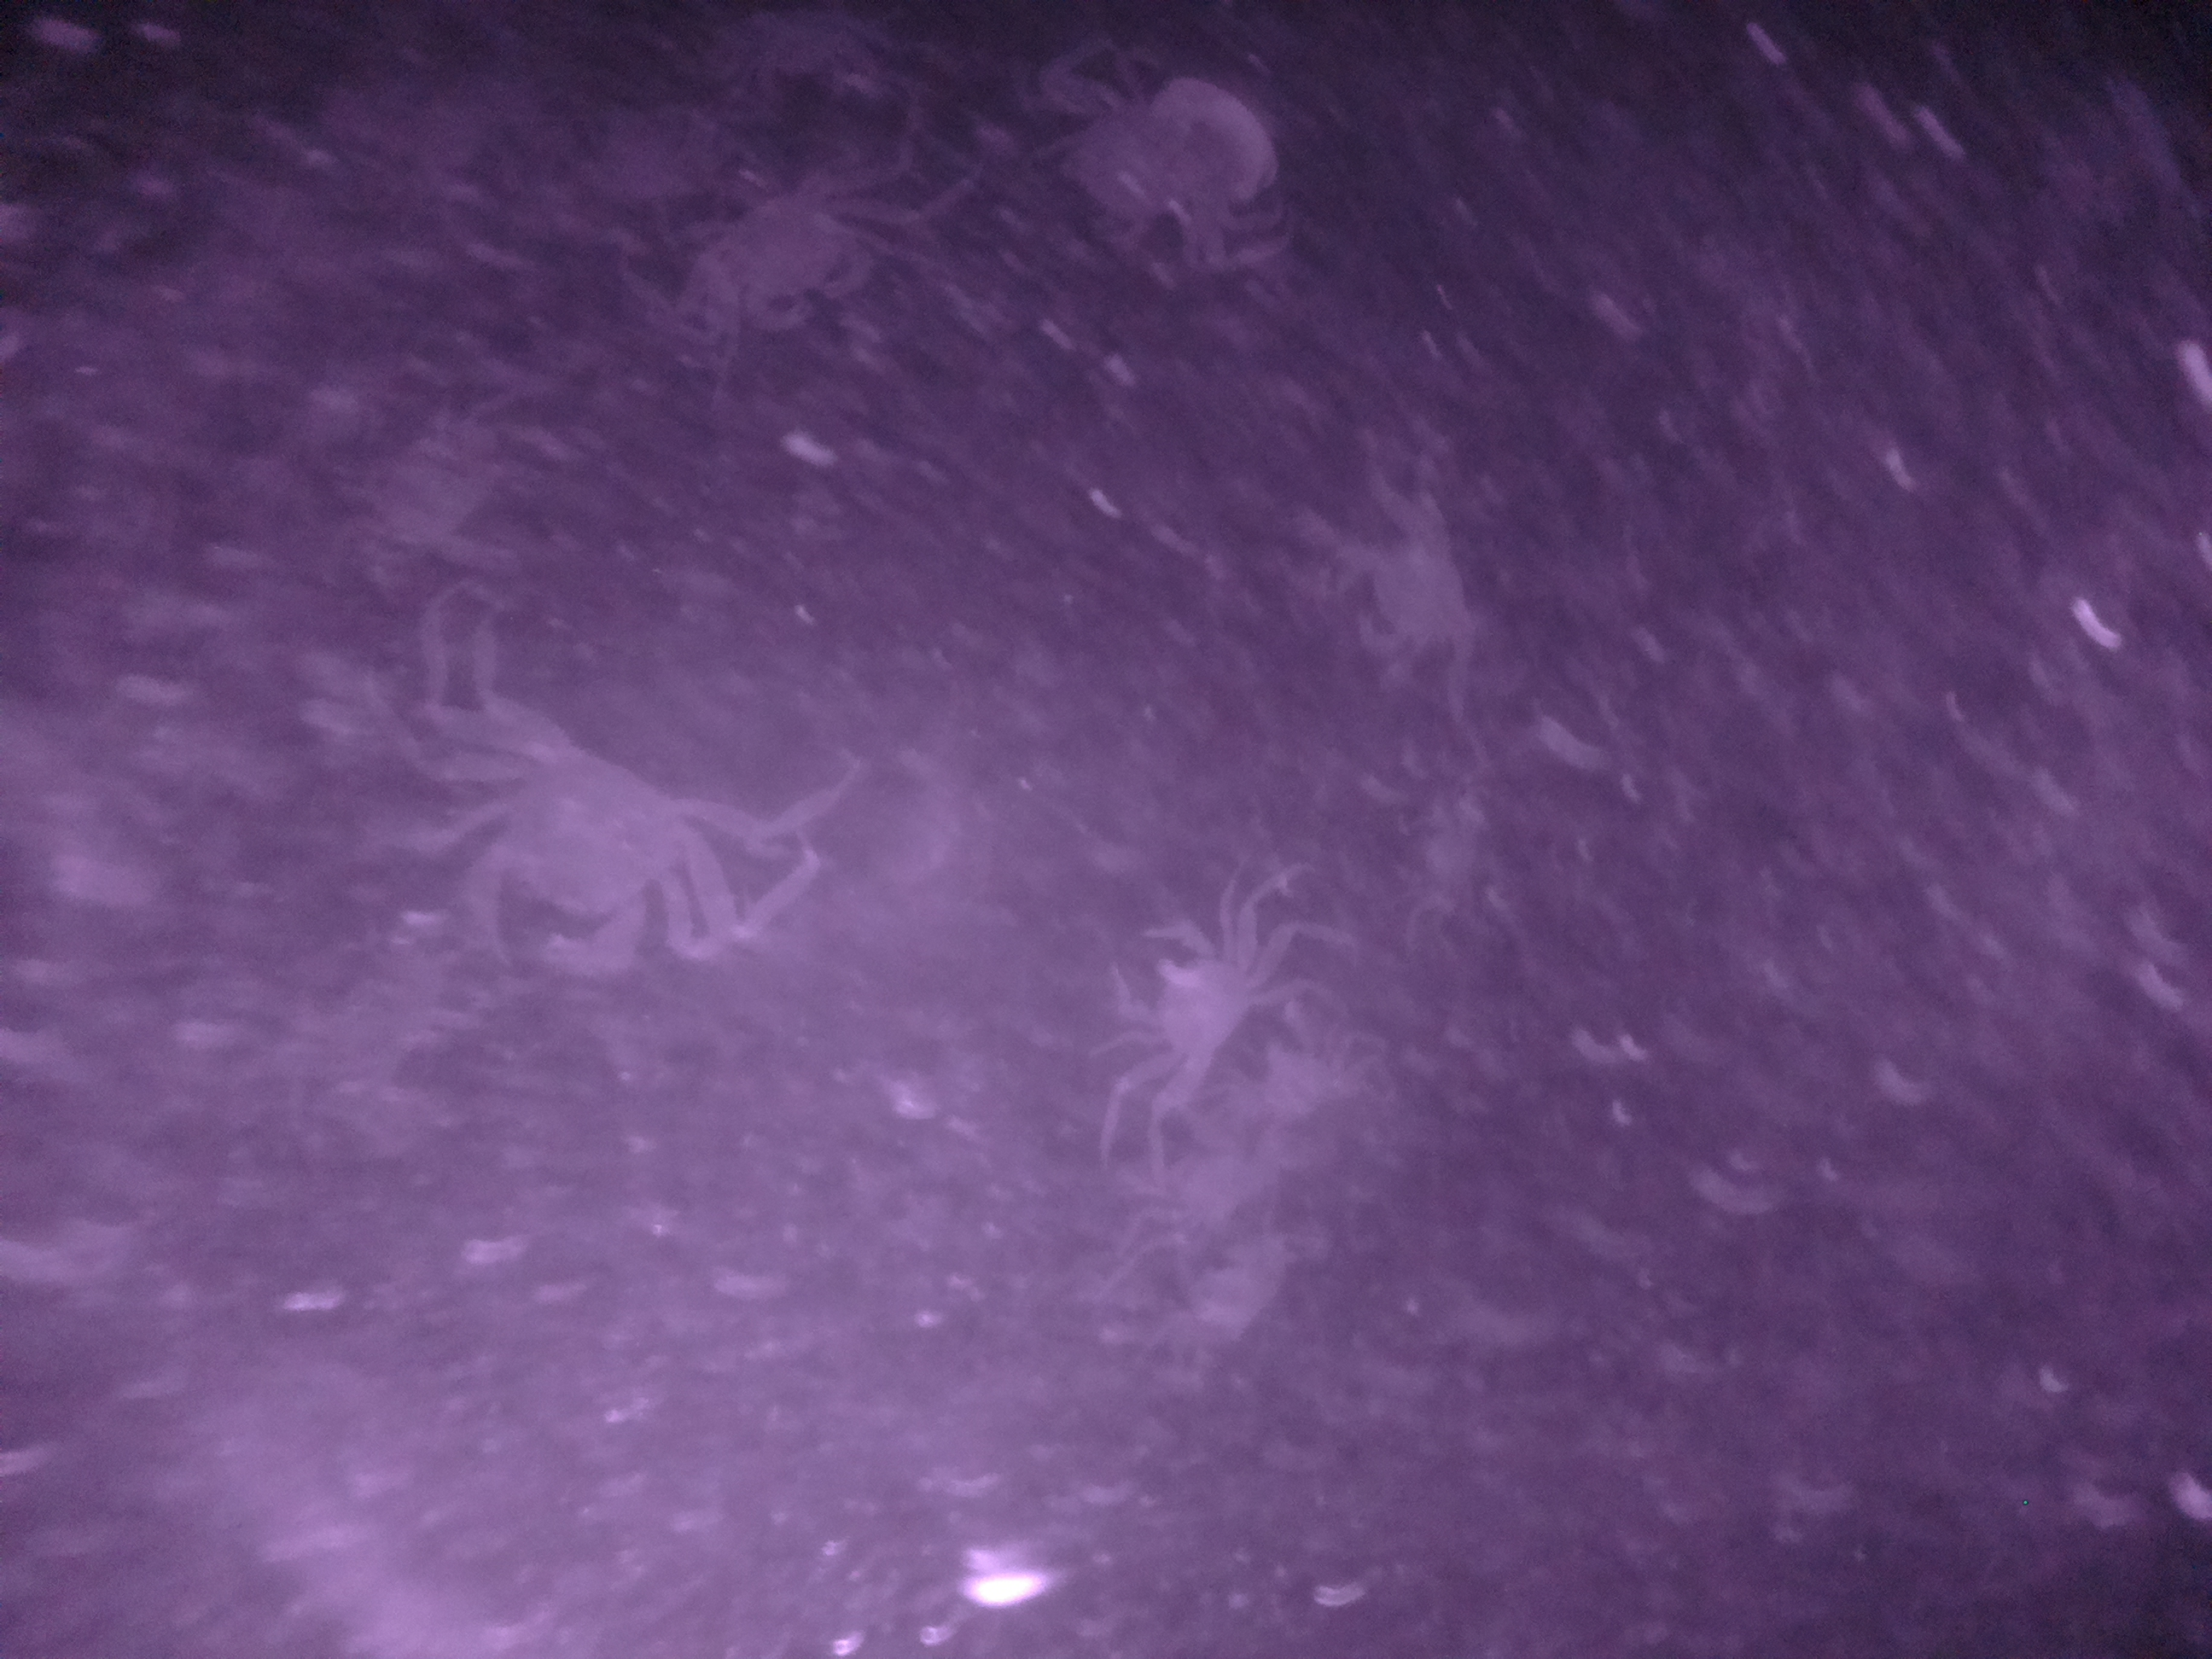Crab: (693, 157, 909, 354), (1082, 897, 1282, 1073), (1324, 491, 1487, 671)
